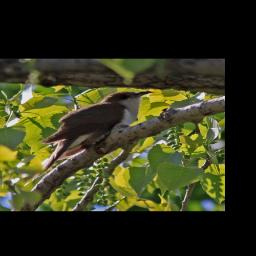Cuckoo: (37, 89, 154, 181)
